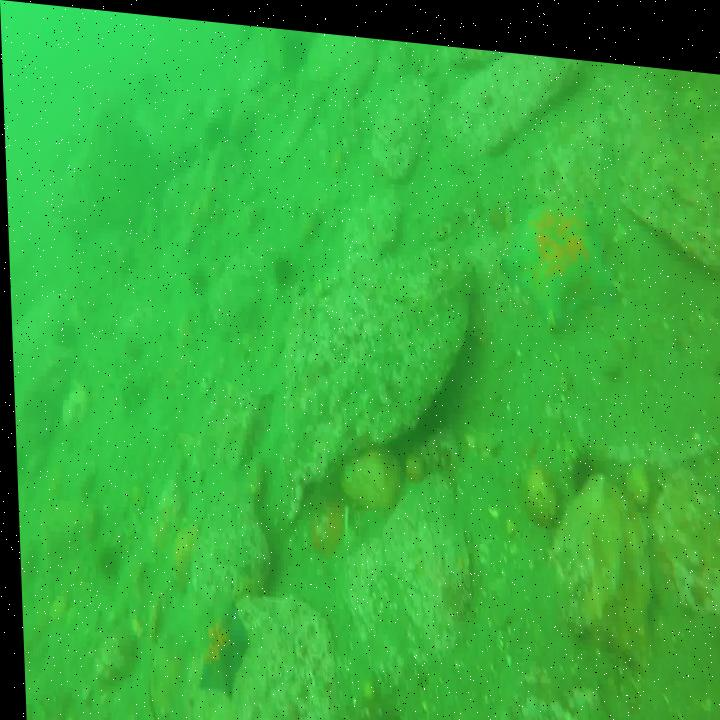echinus: (271, 244, 301, 286), (89, 539, 117, 580), (181, 258, 212, 291)
starfish: (494, 188, 618, 327), (191, 599, 247, 699)
